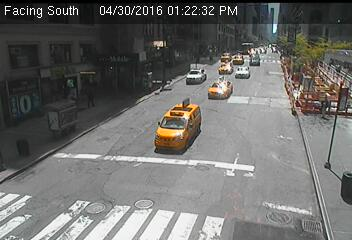neg: (238, 62, 259, 90), (223, 76, 237, 94), (167, 95, 178, 110), (192, 54, 201, 66)
pos: (316, 93, 334, 117), (84, 86, 101, 109)
